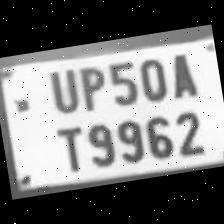0: (132, 51, 170, 102)
2: (170, 103, 208, 157)
5: (102, 55, 141, 108)
6: (140, 110, 176, 162)
9: (80, 117, 118, 170), (110, 113, 146, 166)
A: (163, 46, 201, 102)
P: (74, 61, 110, 115)
T: (47, 119, 88, 176)
U: (42, 61, 82, 116)
